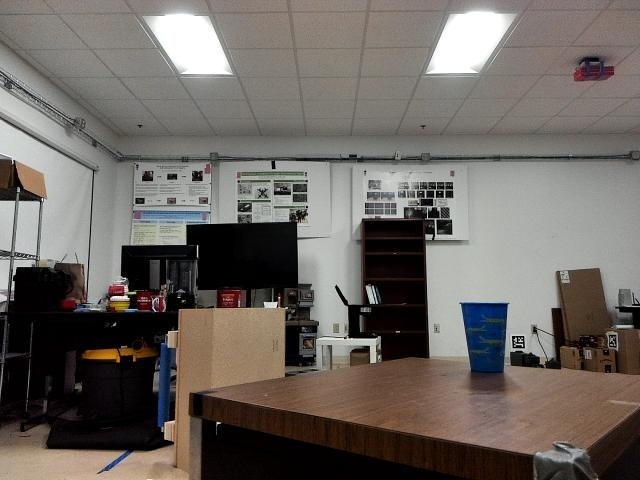water_cup: (454, 293, 512, 379)
